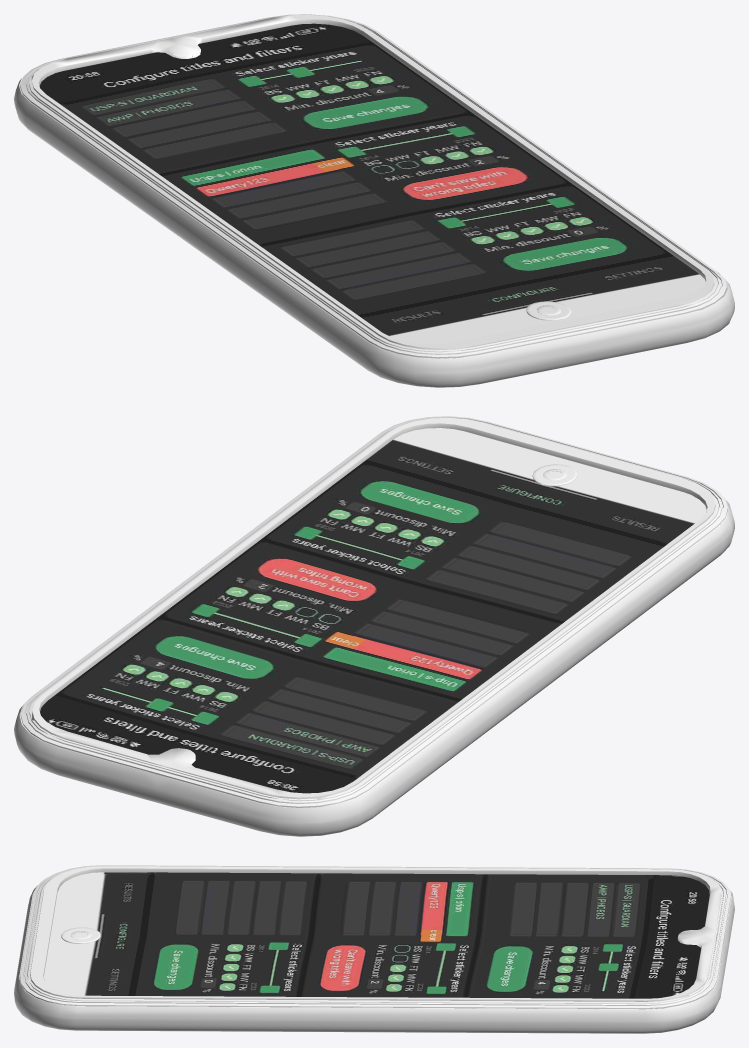
The model's file is Phone.obj.
The picture shows the model from 3 angles, top to bottom: view 1: azimuth 30°, elevation 25°; view 2: azimuth 150°, elevation 25°; view 3: azimuth 270°, elevation 25°; orthographic projection. The views are drawn at different scales.
Parts seen in each view (by area): view 1: objMesh; view 2: objMesh; view 3: objMesh.
Boxes of the visible parts, x1=… form: objMesh: x1=14, y1=14, x2=734, y2=387; objMesh: x1=14, y1=416, x2=734, y2=836; objMesh: x1=14, y1=865, x2=734, y2=1033.
Size of the model in its own units: 1.09 by 0.1273 by 2.32.
Materials: 4 (4 with a texture image).
